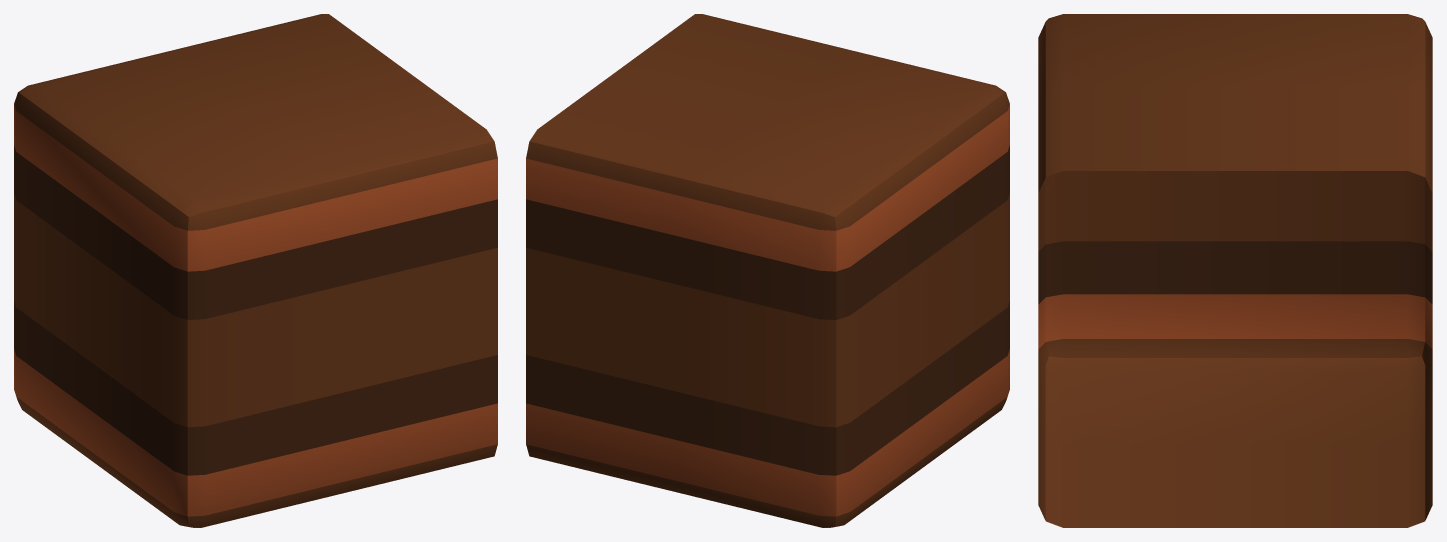
The model's file is Cube_Dirt_1x1End.fbx.
The picture shows the model from 3 angles, left to right: view 1: azimuth 30°, elevation 25°; view 2: azimuth 150°, elevation 25°; view 3: azimuth 270°, elevation 25°; orthographic projection. The views are drawn at different scales.
Visible parts, largest first — view 1: Cube_Dirt_1x1End; view 2: Cube_Dirt_1x1End; view 3: Cube_Dirt_1x1End.
Part boxes in pixels (bbox=[...]): Cube_Dirt_1x1End: bbox=[14, 14, 497, 527]; Cube_Dirt_1x1End: bbox=[526, 14, 1009, 527]; Cube_Dirt_1x1End: bbox=[1038, 14, 1432, 527].
Size of the model in its own units: 200 by 200 by 200.
